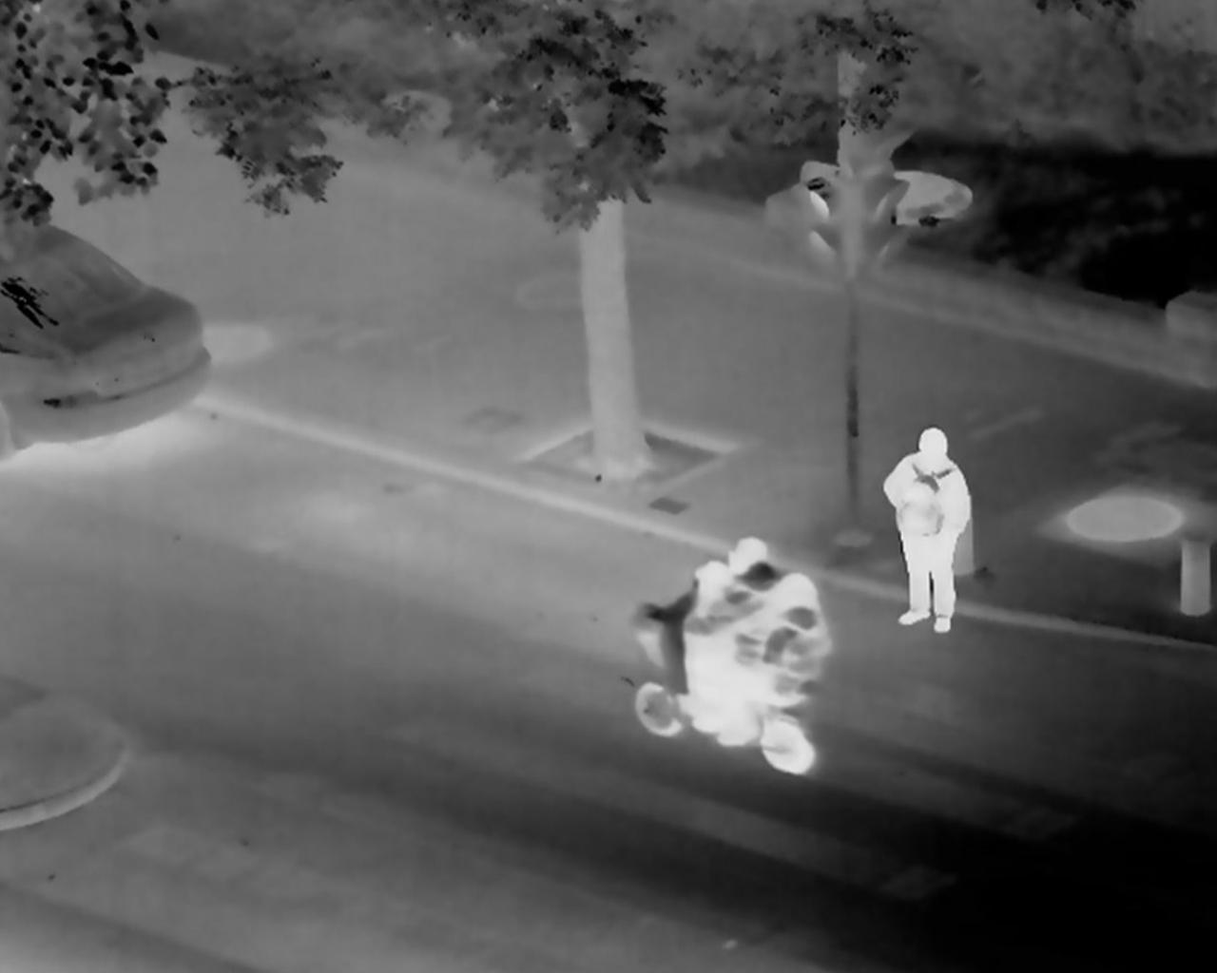person: (685, 532, 806, 775), (880, 403, 970, 647)
